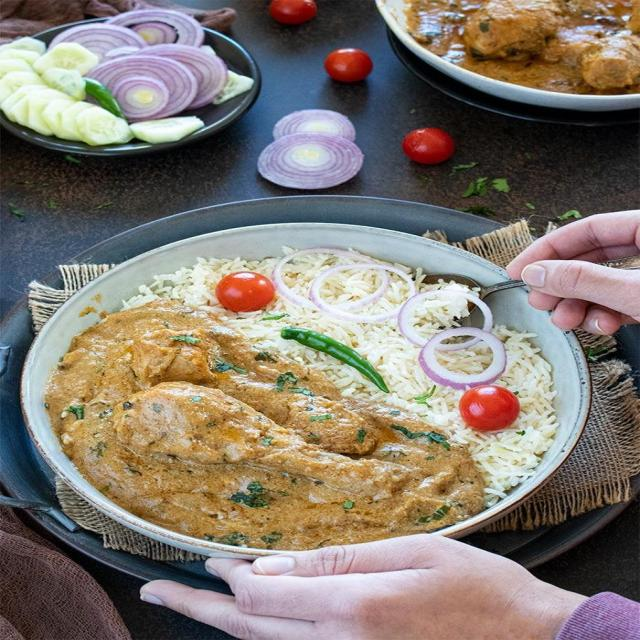chicken: (64, 325, 423, 528), (388, 7, 640, 92)
rice: (288, 256, 549, 469)
